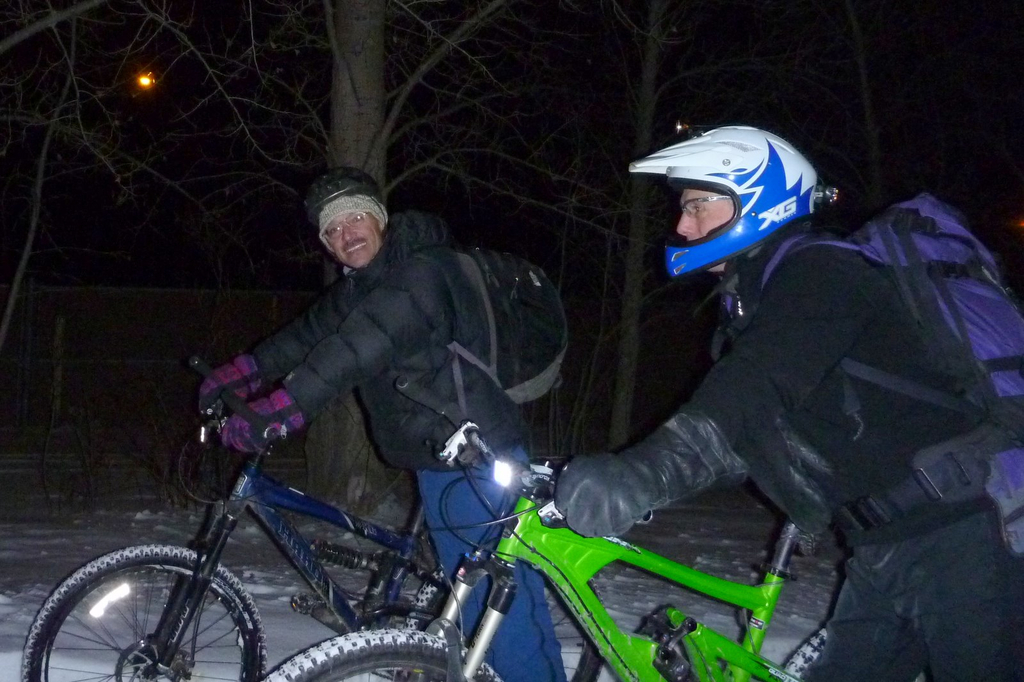Bike_away: (25, 357, 610, 677)
